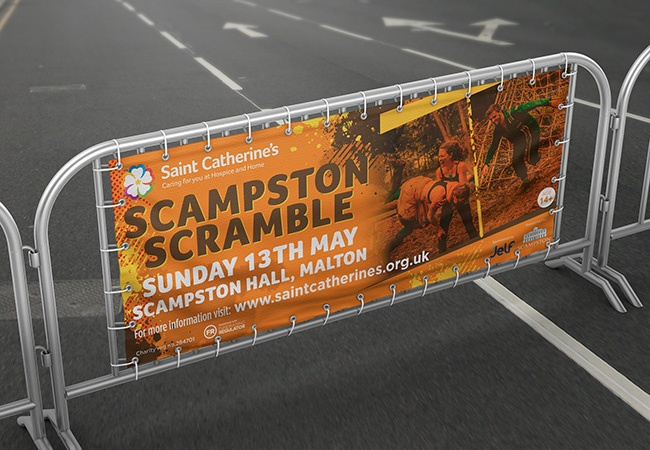vinyl banner: (97, 65, 587, 370)
